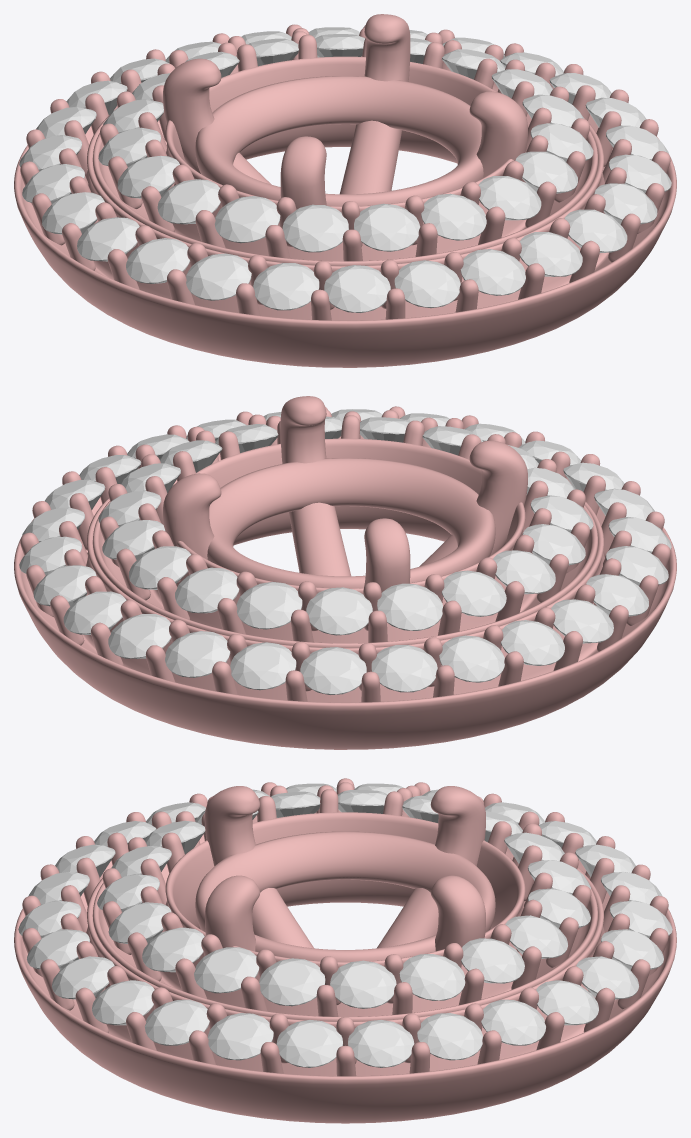
Rendered from DOUBLE-HALO.glb.
3 views of the same model, one above another, from view 1: azimuth 30°, elevation 25°; view 2: azimuth 150°, elevation 25°; view 3: azimuth 270°, elevation 25° (orthographic).
Visible parts, largest first — view 1: metal.001, diamond.001, 4 prong, metal, diamond; view 2: metal.001, diamond.001, 4 prong, metal, diamond; view 3: metal.001, diamond.001, metal, 4 prong, diamond.
Boxes of the visible parts, x1,y1,x2,y2 form: metal.001: (14,24,676,367); diamond.001: (19,27,671,312); 4 prong: (163,14,527,209); metal: (92,31,598,265); diamond: (98,34,593,252); metal.001: (14,406,676,749); diamond.001: (19,409,671,694); 4 prong: (163,396,527,592); metal: (92,411,598,647); diamond: (98,416,593,635); metal.001: (14,778,676,1123); diamond.001: (18,783,672,1067); metal: (92,785,598,1021); 4 prong: (195,786,495,961); diamond: (97,790,590,1008).
Size of the model in its own units: 10.95 by 4.48 by 10.95.
